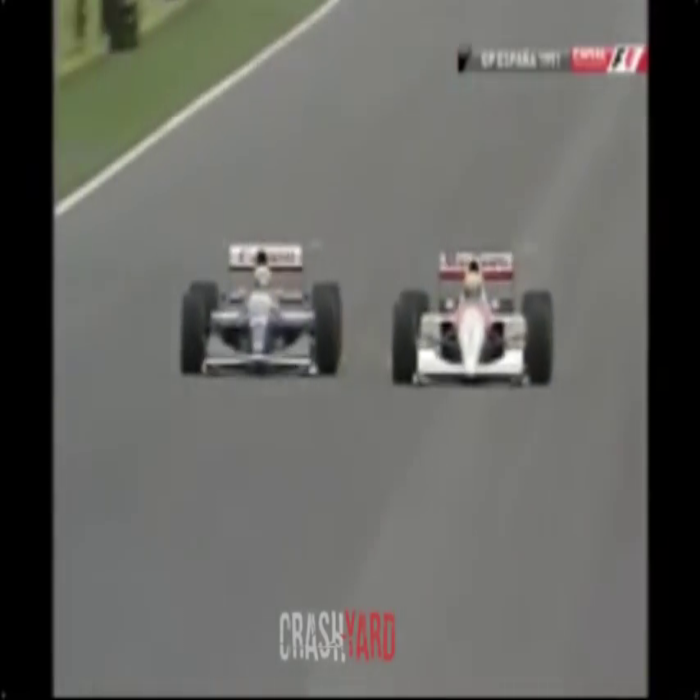f1_car: (382, 230, 572, 422), (174, 229, 355, 404)
